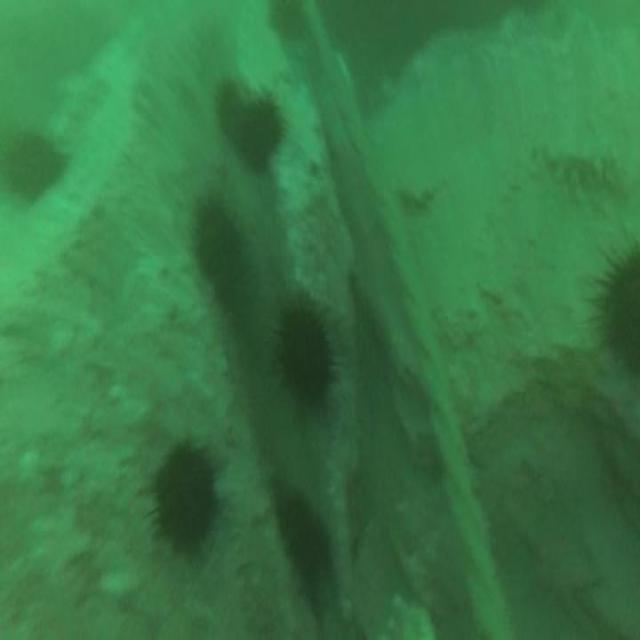echinus: (153, 444, 218, 553), (276, 310, 334, 409), (196, 202, 244, 305), (601, 245, 640, 368), (277, 493, 331, 575), (3, 134, 62, 204), (238, 98, 281, 166), (214, 79, 244, 133), (270, 1, 306, 40)
holothurian: (546, 146, 626, 192)
